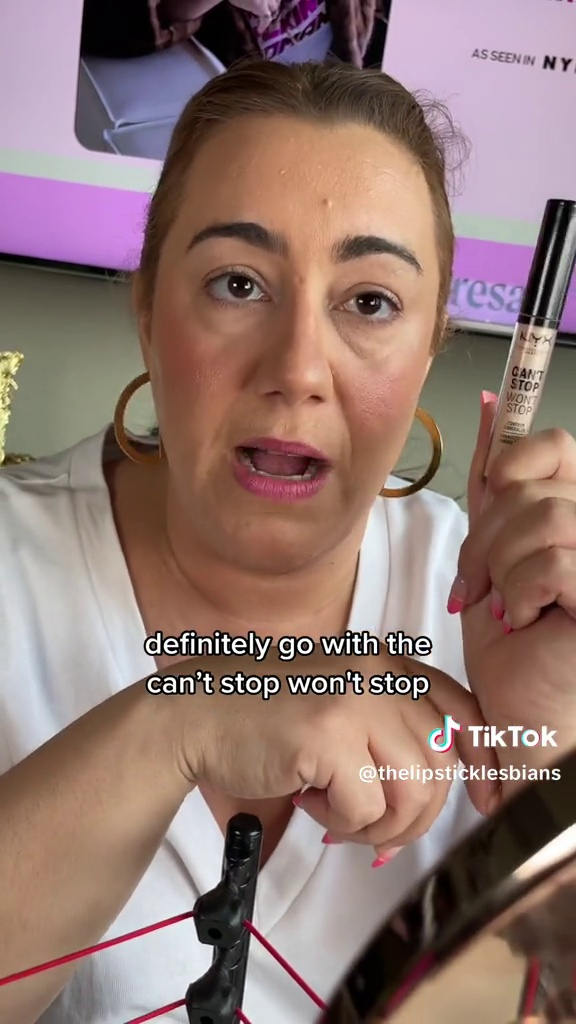train' :'yolo_data/train/images',: (467, 188, 575, 491)
